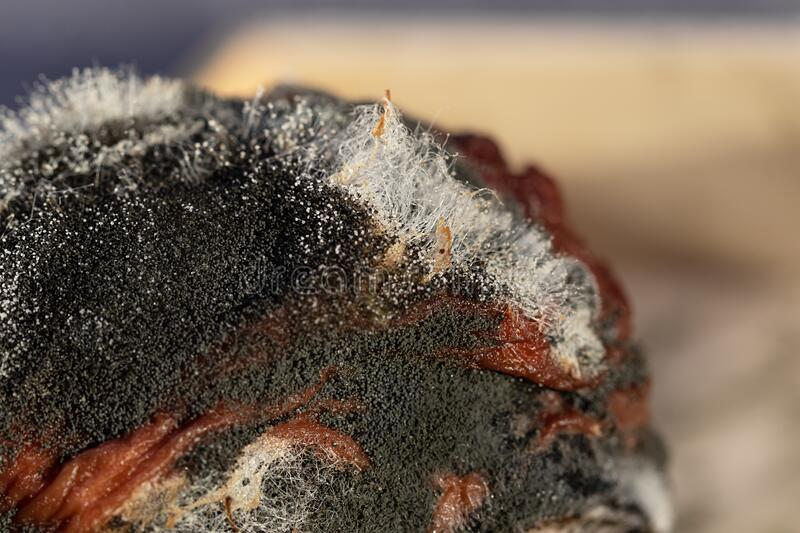Mucor: (295, 96, 515, 270), (17, 94, 222, 235), (177, 438, 432, 533), (312, 343, 510, 458), (31, 257, 209, 381), (1, 257, 80, 376)
